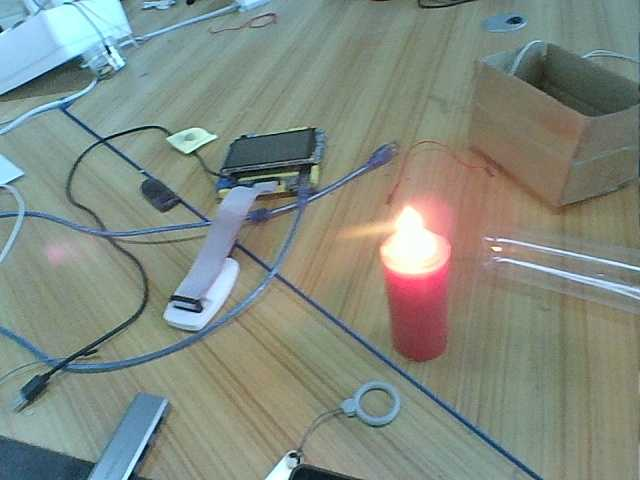candle: (390, 278, 456, 364)
fire: (375, 204, 451, 275)
